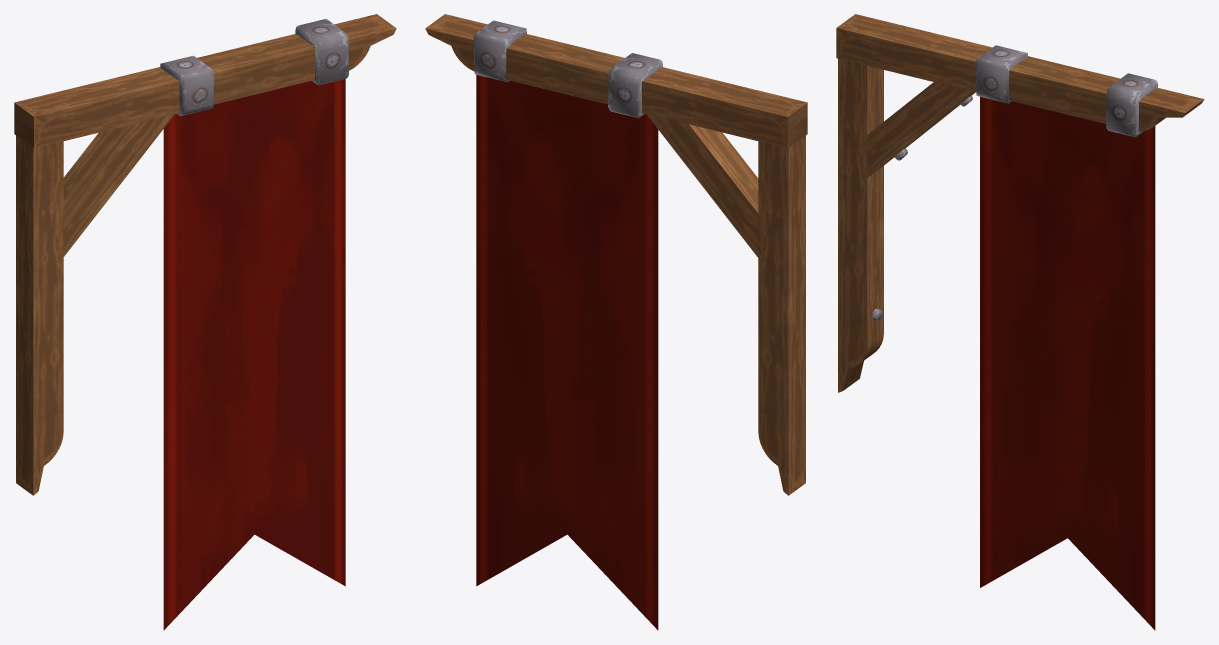
File: Banner_1.gltf
3 views of the same model, side by side, from view 1: azimuth 30°, elevation 25°; view 2: azimuth 150°, elevation 25°; view 3: azimuth 330°, elevation 25° (orthographic). The views are drawn at different scales.
Visible parts, largest first — view 1: Banner_1; view 2: Banner_1; view 3: Banner_1.
Boxes of the visible parts, box(x1,y1,x2,y2) form: Banner_1: box(14, 14, 396, 630); Banner_1: box(425, 14, 807, 630); Banner_1: box(836, 14, 1204, 630).
Size of the model in its own units: 1.61 by 2.39 by 0.1906.
3 materials, 3 textured.
